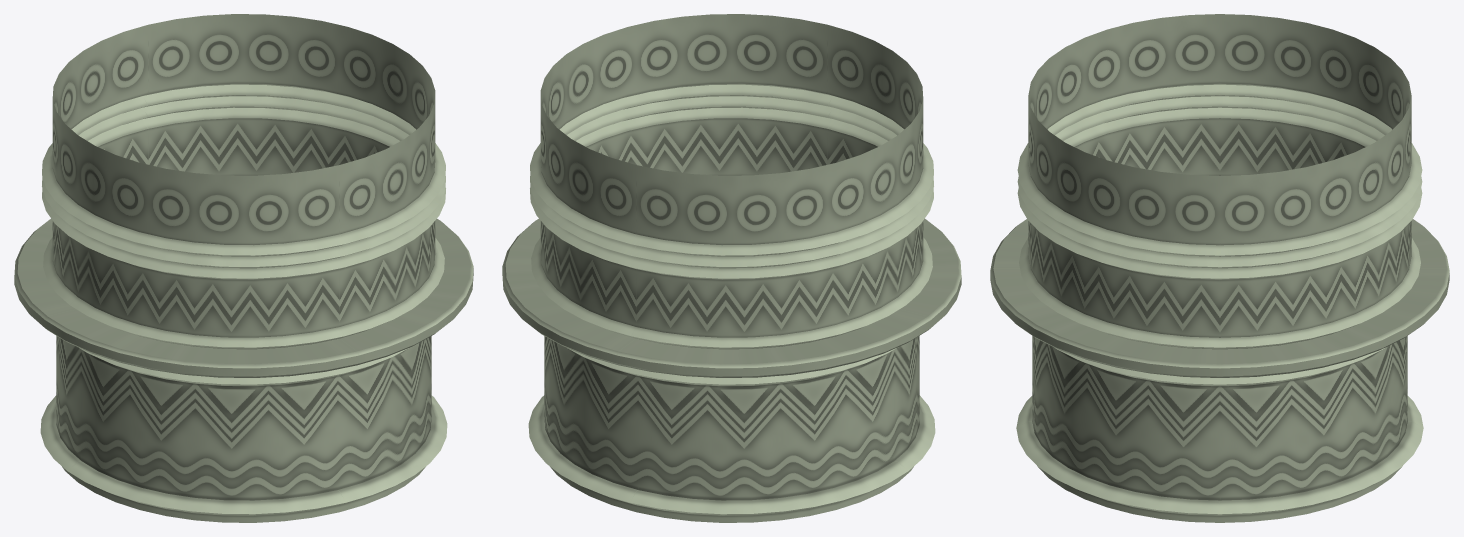
Rendered from Tower_Segment_Zigzag.fbx.
The picture shows the model from 3 angles, left to right: view 1: azimuth 30°, elevation 25°; view 2: azimuth 150°, elevation 25°; view 3: azimuth 270°, elevation 25°; orthographic projection.
Parts seen in each view (by area): view 1: Tower_Segment_Zigzag; view 2: Tower_Segment_Zigzag; view 3: Tower_Segment_Zigzag.
Boxes of the visible parts, bbox=[...] form: Tower_Segment_Zigzag: bbox=[14, 14, 473, 522]; Tower_Segment_Zigzag: bbox=[502, 14, 961, 522]; Tower_Segment_Zigzag: bbox=[990, 14, 1449, 522].
Bounding box in the file's own units: 3.6 × 3 × 3.6.
1 material, 1 textured.
